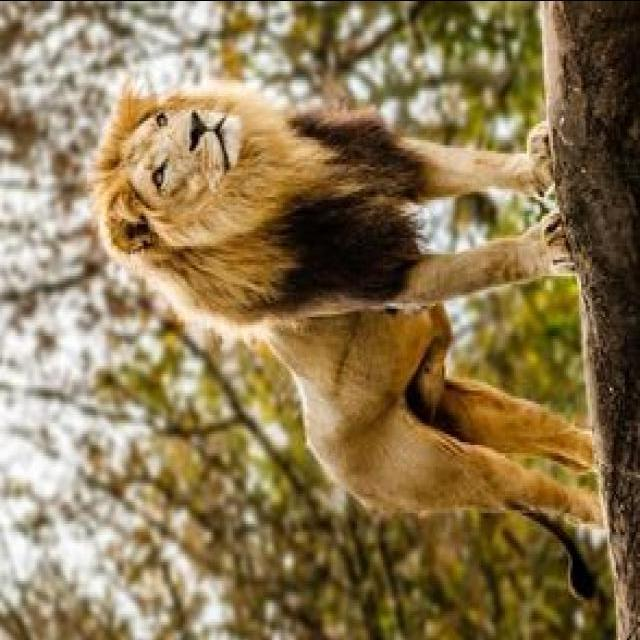lions: (0, 11, 640, 640)
